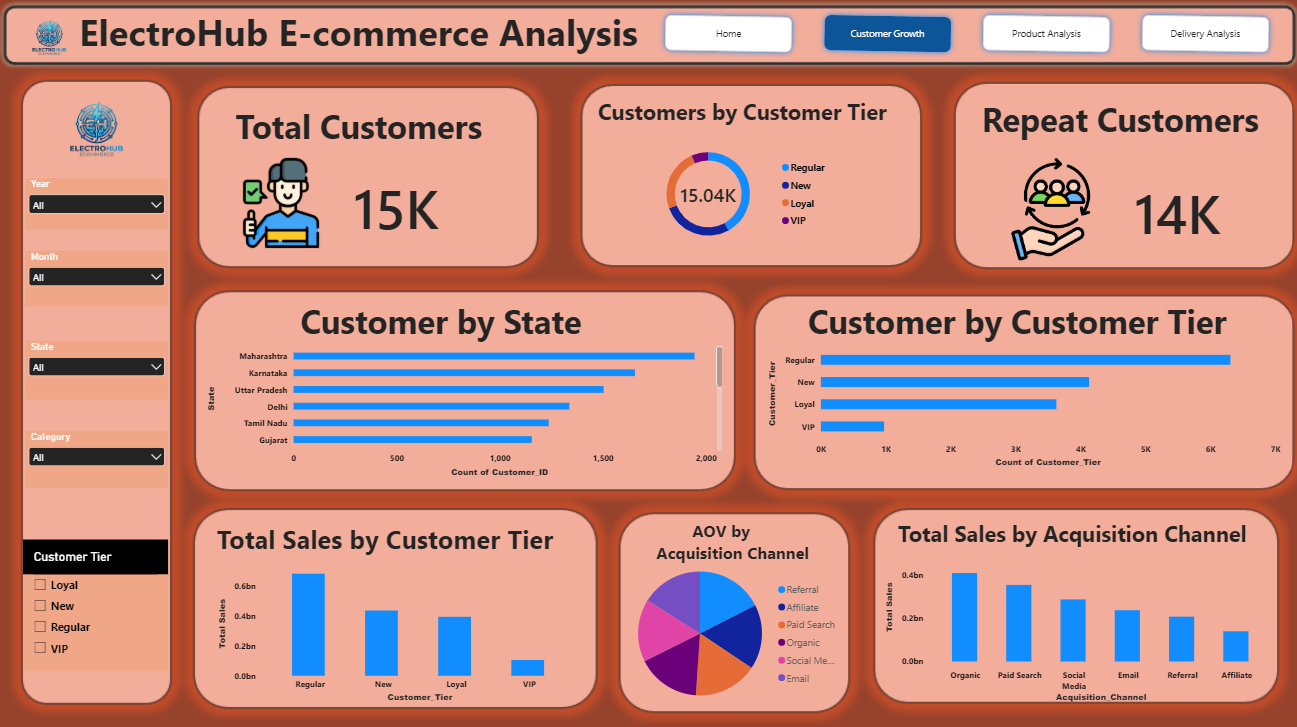

What the dashboard file says about the page in this screenshot:
{"tool":"powerbi","page":{"name":"Customer Growth","canvas":[1920,1080],"ordinal":1},"visuals":[{"type":"image","box":[0,0,150.9,119.6],"z":0,"group":"g1"},{"type":"pageNavigator","box":[962.6,18.4,929.5,71.8],"z":0},{"type":"image","box":[27.6,119.6,235.6,151.3],"z":0,"group":"g2"},{"type":"group","id":"g1","title":"Group 2","box":[0,0,972.3,119.6],"z":1000},{"type":"textbox","box":[119.6,14.7,852.7,95.2],"z":1000,"group":"g1"},{"type":"group","id":"g2","title":"Group 2","box":[27.6,119.6,235.6,147.2],"z":1000,"group":"g3"},{"type":"card","fields":{"Values":["order_items.Total Customer"]},"box":[485.9,230.1,200.6,150.9],"z":2000},{"type":"card","fields":{"Values":["customers.Repeat Customers"]},"box":[1597.6,244.8,277.9,136.2],"z":3000},{"type":"barChart","fields":{"Y":["CountNonNull(customers.Customer_ID)"],"Category":["customers.State"]},"box":[292.2,491.3,789.9,231.6],"z":4000},{"type":"barChart","fields":{"Y":["CountNonNull(customers.Customer_Tier)"],"Category":["customers.Customer_Tier"]},"box":[1119,491.4,785.9,217.2],"z":5000},{"type":"columnChart","fields":{"Category":["customers.Customer_Tier"],"Y":["order_items.Total Sales"]},"box":[309.2,822.7,559.5,231.9],"z":6000},{"type":"columnChart","fields":{"Y":["order_items.Total Sales"],"Category":["customers.Acquisition_Channel"]},"box":[1292,795.1,600,259.5],"z":7000},{"type":"donutChart","fields":{"Category":["customers.Customer_Tier"],"Y":["CountNonNull(customers.Customer_ID)"]},"box":[921.9,188.3,320.3,205.6],"z":8000},{"type":"pieChart","fields":{"Y":["order_items.Average Order Value"],"Category":["customers.Acquisition_Channel"]},"box":[903.7,795.1,358.9,285.3],"z":9000},{"type":"slicer","title":"Year","fields":{"Values":["orders.Order_Date.Variation.Date Hierarchy.Year"]},"box":[41.1,266.2,209.9,75.7],"z":10000},{"type":"slicer","title":"Year","fields":{"Values":["customers.State"]},"box":[41.1,506.4,209.9,86.6],"z":11000},{"type":"slicer","title":"Year","fields":{"Values":["orders.Order_Date.Variation.Date Hierarchy.Month"]},"box":[41.1,374.4,209.9,82.2],"z":12000},{"type":"slicer","title":"Year","fields":{"Values":["products.Category"]},"box":[41.1,638.4,209.9,84.4],"z":13000},{"type":"group","id":"g3","title":"Group 1","box":[27.6,119.6,235.6,147.2],"z":14000},{"type":"textbox","box":[350.6,155.8,398.2,69.3],"z":15000},{"type":"textbox","box":[1447.8,147.2,471.8,88.7],"z":16000},{"type":"textbox","box":[883,147.2,471.8,73.6],"z":17000},{"type":"textbox","box":[445.8,443.6,476.1,93.1],"z":18000},{"type":"listSlicer","title":"Customer Tier","fields":{"Values":["customers.Customer_Tier"]},"box":[36.8,798.8,213.5,193.3],"z":19000},{"type":"textbox","box":[1192.6,443.6,677.3,90.2],"z":20000},{"type":"textbox","box":[322.1,773,561.4,84.7],"z":21000},{"type":"textbox","box":[962.6,769.3,270.6,82.8],"z":22000},{"type":"textbox","box":[1325.2,767.5,544.8,79.1],"z":23000},{"type":"image","box":[322.1,226.4,187.7,150.9],"z":24000},{"type":"image","box":[1408,226.4,276.1,173],"z":25000}]}

Visuals, with their boxes in screenshot pixels (x1, y1, x2, y2), scaled from the page's 1920x1080 canvas onto the 1297x727 screenshot:
image: rect(0, 0, 102, 81)
pageNavigator: rect(650, 12, 1278, 61)
image: rect(19, 81, 178, 182)
"Group 2" group: rect(0, 0, 657, 81)
textbox: rect(81, 10, 657, 74)
"Group 2" group: rect(19, 81, 178, 180)
card - order_items.Total Customer: rect(328, 155, 464, 256)
card - customers.Repeat Customers: rect(1079, 165, 1267, 256)
barChart - CountNonNull(customers.Customer_ID) x customers.State: rect(197, 331, 731, 487)
barChart - CountNonNull(customers.Customer_Tier) x customers.Customer_Tier: rect(756, 331, 1287, 477)
columnChart - customers.Customer_Tier x order_items.Total Sales: rect(209, 554, 587, 710)
columnChart - order_items.Total Sales x customers.Acquisition_Channel: rect(873, 535, 1278, 710)
donutChart - customers.Customer_Tier x CountNonNull(customers.Customer_ID): rect(623, 127, 839, 265)
pieChart - order_items.Average Order Value x customers.Acquisition_Channel: rect(610, 535, 853, 726)
"Year" slicer: rect(28, 179, 170, 230)
"Year" slicer: rect(28, 341, 170, 399)
"Year" slicer: rect(28, 252, 170, 307)
"Year" slicer: rect(28, 430, 170, 487)
"Group 1" group: rect(19, 81, 178, 180)
textbox: rect(237, 105, 506, 152)
textbox: rect(978, 99, 1296, 159)
textbox: rect(596, 99, 915, 149)
textbox: rect(301, 299, 623, 361)
"Customer Tier" listSlicer: rect(25, 538, 169, 668)
textbox: rect(806, 299, 1263, 359)
textbox: rect(218, 520, 597, 577)
textbox: rect(650, 518, 833, 574)
textbox: rect(895, 517, 1263, 570)
image: rect(218, 152, 344, 254)
image: rect(951, 152, 1138, 269)
